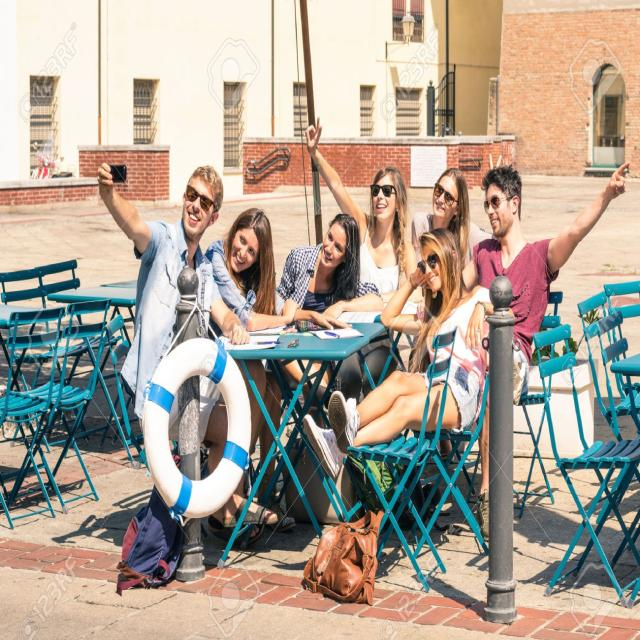body: (92, 158, 280, 550), (459, 158, 634, 543), (300, 222, 515, 483), (201, 207, 353, 542), (304, 115, 421, 408), (274, 212, 385, 474), (410, 166, 501, 271)
